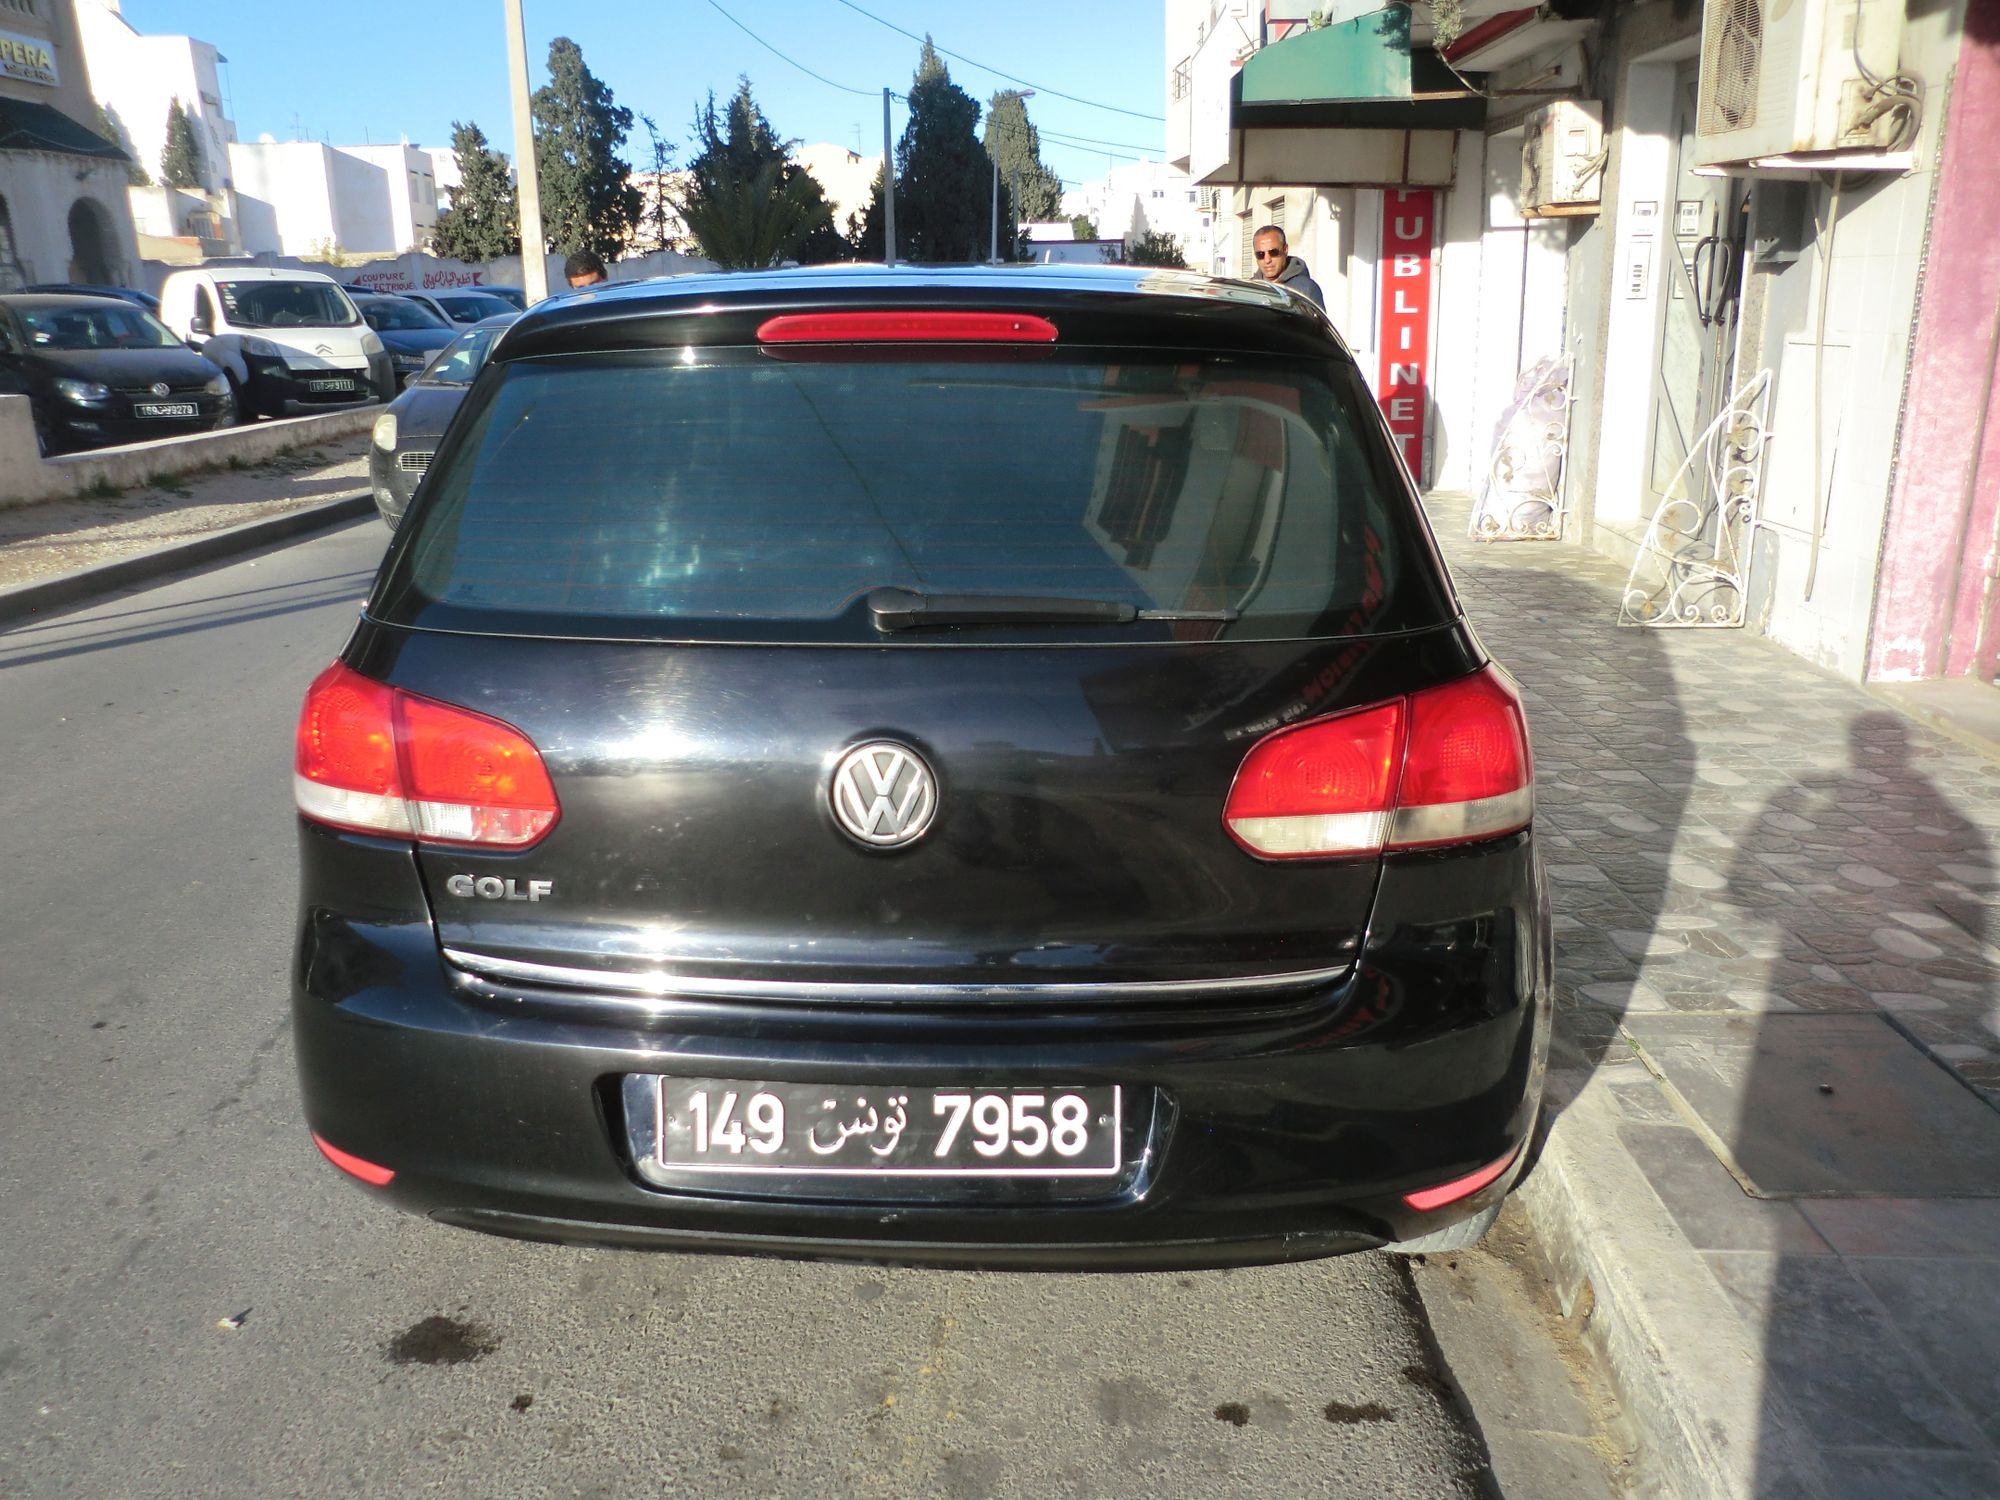LP: (657, 1068, 1124, 1181)
